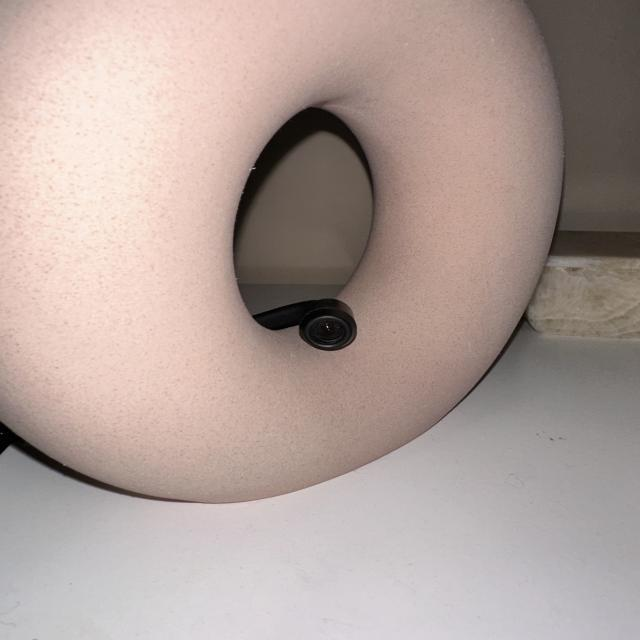hidden camera: (305, 314, 352, 351)
